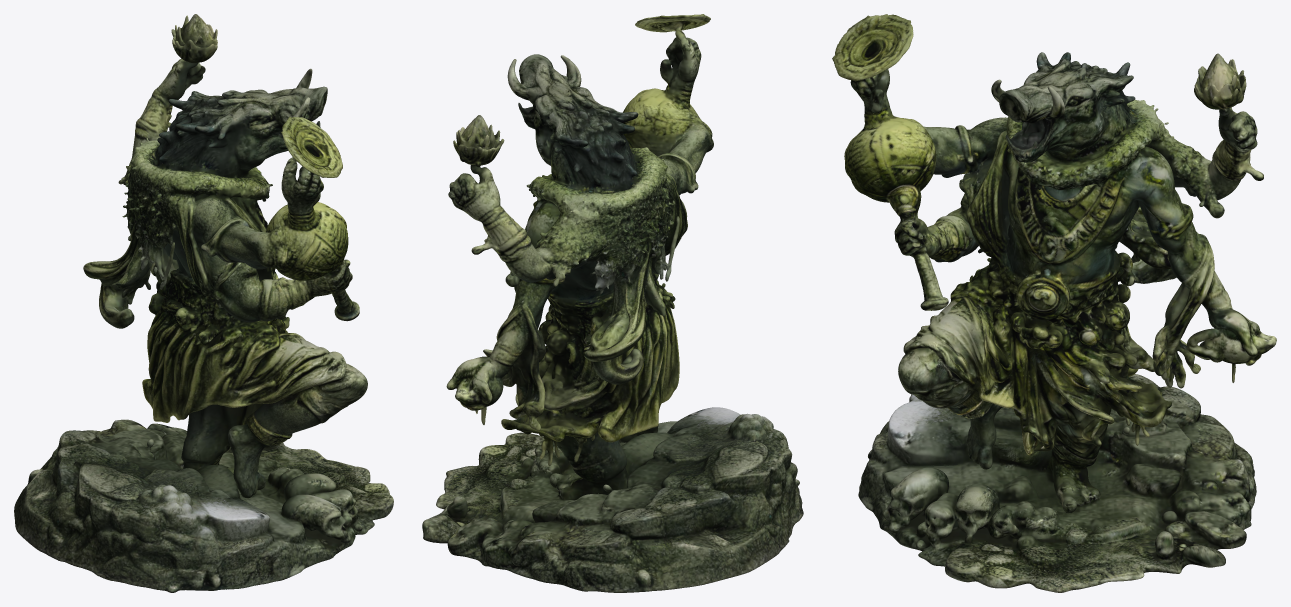
File: tripo_convert_b63417b3-1d5b-4ef2-a2af-840dfbea7a93.fbx
3 renders of one model, left to right at view 1: azimuth 30°, elevation 25°; view 2: azimuth 150°, elevation 25°; view 3: azimuth 270°, elevation 25°, orthographic. The views are drawn at different scales.
Parts seen in each view (by area): view 1: tripo_node_b63417b3; view 2: tripo_node_b63417b3; view 3: tripo_node_b63417b3.
Part boxes in pixels (x1,y1,x2,y2): tripo_node_b63417b3: (14, 14, 393, 592); tripo_node_b63417b3: (422, 14, 803, 592); tripo_node_b63417b3: (832, 14, 1276, 592).
Bounding box in the file's own units: 0.7832 × 1 × 0.8176.
1 material, 1 textured.
